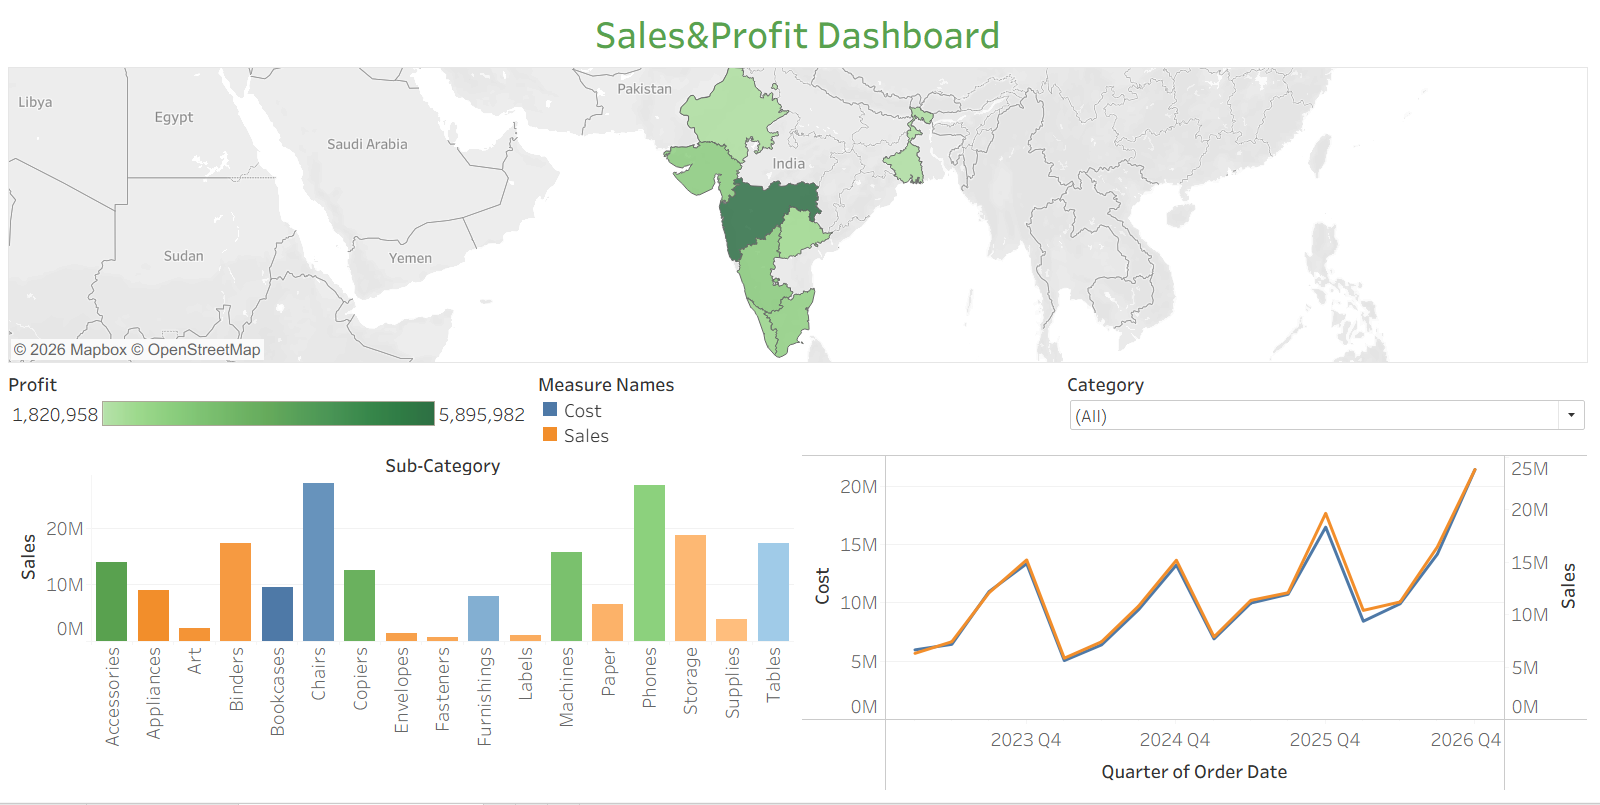

The dashboard page shown, as its layout file describes it:
{"tool":"tableau","page":{"name":"Sales&Profit Dashboard","canvas":[1000,1000],"units":"permille","ordinal":0},"visuals":[{"type":"title","box":[5,9.9,990,72]},{"type":"worksheet","title":"Filled Map","mark":"Automatic","box":[5,81.9,990,377.8]},{"type":"legend","title":"Filled Map","param":"[federated.0lm7xl5117eb0w129oobp0w95z40].[sum:Profit:qk]","box":[5,459.1,330.4,104.2]},{"type":"legend","title":"Dual Line Chart","param":"[federated.0lm7xl5117eb0w129oobp0w95z40].[:Measure Names]","box":[335.4,459.1,329.8,104.2]},{"type":"filter","title":"Bar Chart","param":"[federated.0lm7xl5117eb0w129oobp0w95z40].[none:Category:nk]","box":[665.2,459.1,329.8,104.2]},{"type":"worksheet","title":"Bar Chart","mark":"Bar","rows":["Sales"],"cols":["Sub-Category"],"box":[5,563.3,495,426.8]},{"type":"worksheet","title":"Dual Line Chart","mark":"Automatic","rows":["Calculation_1212501708492800","Sales"],"cols":["Order Date"],"box":[500,563.3,495,426.8]}]}

Visuals, with their boxes on the dashboard's canvas, which has no fixed pixel size, in thousandths of its width and height (x1, y1, x2, y2). These are canvas units, not pixel positions in the 1600x805 screenshot, which may show the page scaled, cropped or inside an application window:
title: l=5, t=10, r=995, b=82
"Filled Map" worksheet: l=5, t=82, r=995, b=460
"Filled Map" legend: l=5, t=459, r=335, b=563
"Dual Line Chart" legend: l=335, t=459, r=665, b=563
"Bar Chart" filter: l=665, t=459, r=995, b=563
"Bar Chart" worksheet (Bar marks): l=5, t=563, r=500, b=990
"Dual Line Chart" worksheet: l=500, t=563, r=995, b=990
